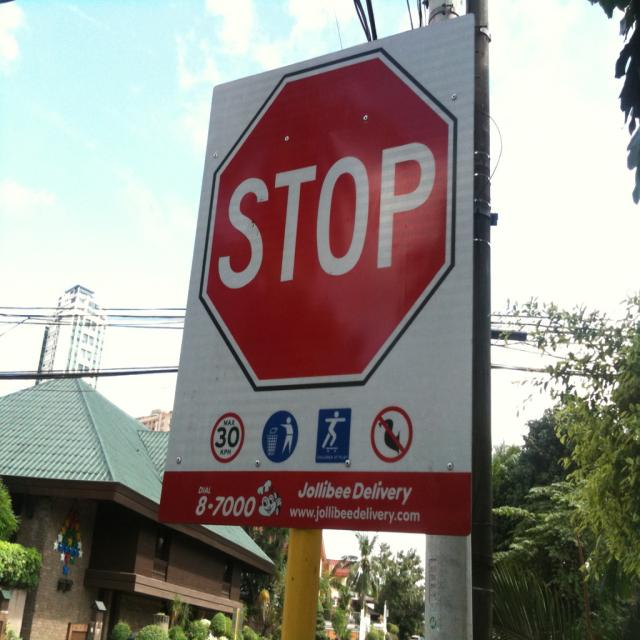Stop-sign: (199, 46, 458, 382)
